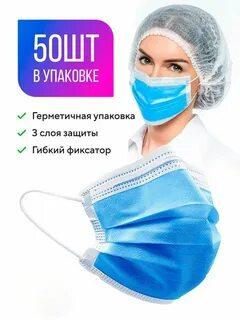hairnet: (135, 7, 240, 109)
mask: (66, 147, 240, 298), (124, 65, 189, 134)
